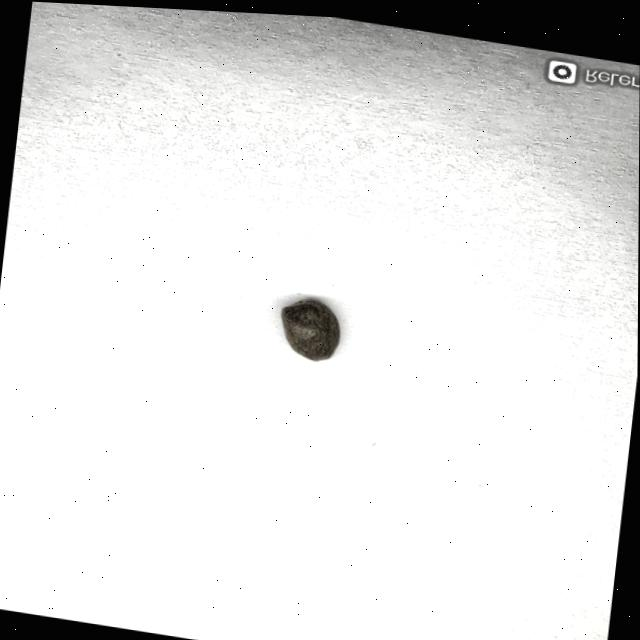Black: (275, 290, 345, 362)
